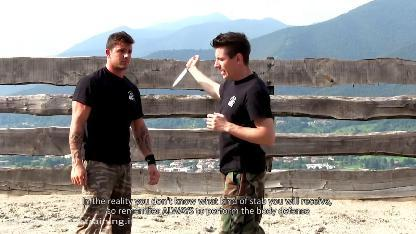knife: (170, 52, 199, 88)
